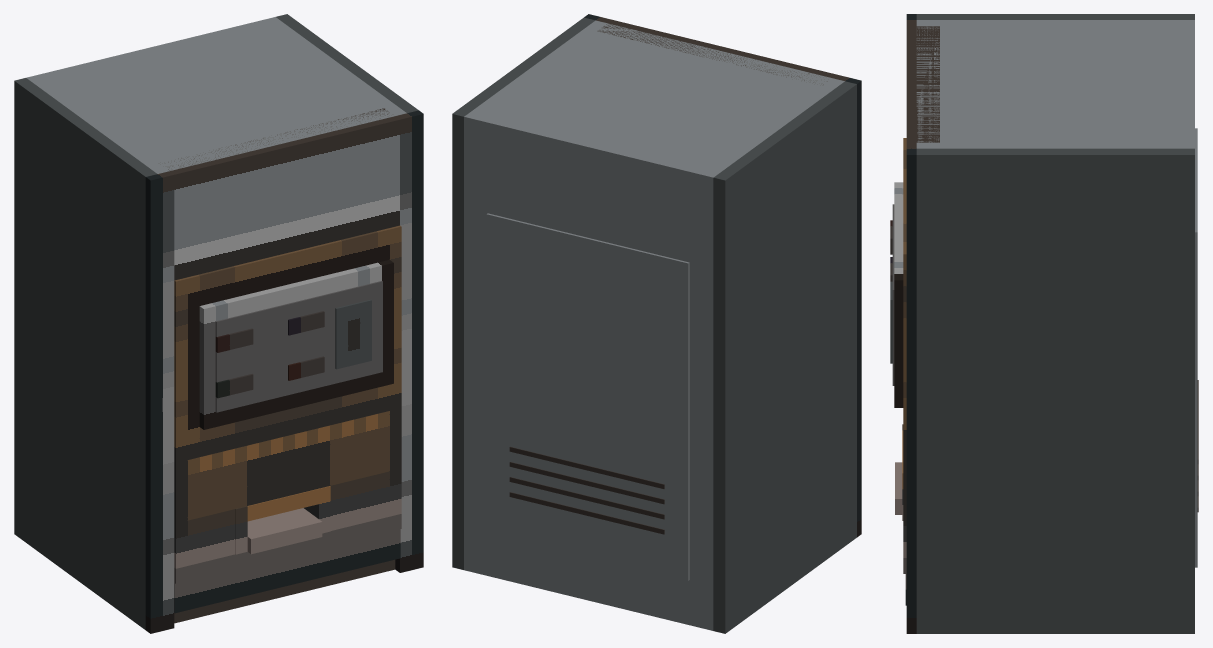
Rendered from CMU3DCigaretteVendor.glb.
3 renders of one model, left to right at view 1: azimuth 30°, elevation 25°; view 2: azimuth 150°, elevation 25°; view 3: azimuth 270°, elevation 25°, orthographic. The views are drawn at different scales.
Parts seen in each view (by area): view 1: left cabinet side, cabinet roof, silver header, brown control surround, lower wood panel upper, left silver face rail, inset four-button field, right silver face rail, control panel housing, bottom plinth, lower wood panel right, lower wood panel lower (+13 smaller); view 2: left cabinet side, inferred rear service hatch, rear cabinet, cabinet roof, right cabinet side, left silver face rail, silver header, rear cooling slot 3, rear cooling slot 1, rear cooling slot 4, rear cooling slot 2; view 3: right cabinet side, cabinet roof, right silver face rail, silver header, control panel housing, rear cabinet, left cabinet side, inferred rear service hatch, brown control surround, inset four-button field.
Boxes of the visible parts, x1=… form: left cabinet side: x1=14, y1=78, x2=157, y2=629; cabinet roof: x1=34, y1=22, x2=406, y2=173; silver header: x1=168, y1=108, x2=399, y2=280; brown control surround: x1=174, y1=225, x2=401, y2=462; lower wood panel upper: x1=174, y1=408, x2=401, y2=523; left silver face rail: x1=145, y1=171, x2=174, y2=633; inset four-button field: x1=215, y1=281, x2=382, y2=412; right silver face rail: x1=395, y1=110, x2=423, y2=572; control panel housing: x1=199, y1=259, x2=393, y2=429; bottom plinth: x1=174, y1=529, x2=400, y2=613; lower wood panel right: x1=330, y1=468, x2=401, y2=530; lower wood panel lower: x1=174, y1=514, x2=401, y2=583; left cabinet side: x1=713, y1=81, x2=856, y2=633; inferred rear service hatch: x1=486, y1=213, x2=689, y2=580; rear cabinet: x1=464, y1=111, x2=720, y2=630; cabinet roof: x1=472, y1=20, x2=844, y2=171; right cabinet side: x1=452, y1=17, x2=595, y2=569; left silver face rail: x1=833, y1=75, x2=861, y2=537; silver header: x1=597, y1=20, x2=837, y2=84; rear cooling slot 3: x1=509, y1=477, x2=664, y2=519; rear cooling slot 1: x1=509, y1=446, x2=664, y2=488; rear cooling slot 4: x1=509, y1=492, x2=664, y2=534; rear cooling slot 2: x1=509, y1=462, x2=664, y2=504; right cabinet side: x1=916, y1=148, x2=1194, y2=633; cabinet roof: x1=916, y1=20, x2=1178, y2=148; right silver face rail: x1=906, y1=142, x2=916, y2=633; silver header: x1=906, y1=26, x2=939, y2=142; control panel housing: x1=894, y1=182, x2=903, y2=407; rear cabinet: x1=1178, y1=20, x2=1194, y2=148; left cabinet side: x1=916, y1=14, x2=1194, y2=19; inferred rear service hatch: x1=1195, y1=128, x2=1197, y2=567; brown control surround: x1=903, y1=138, x2=906, y2=445; inset four-button field: x1=892, y1=204, x2=894, y2=385.
Bounding box in the file's own units: 0.7188 × 1.14 × 0.665.
24 materials, 20 textured.
